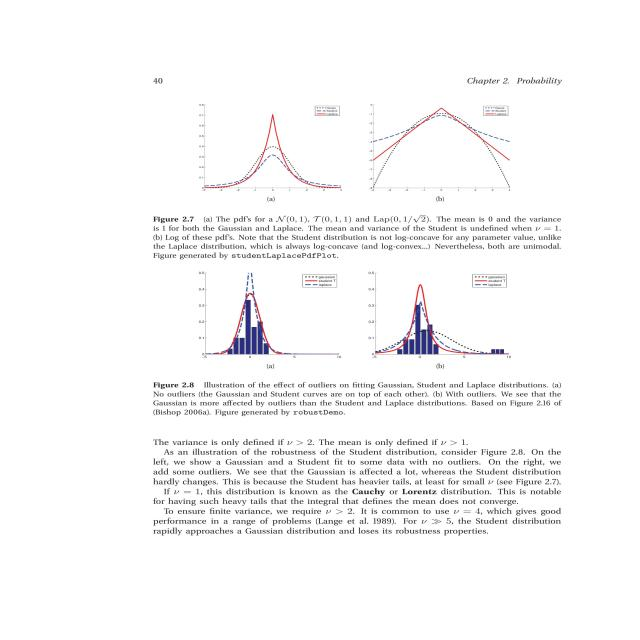diagram: (119, 66, 640, 266), (133, 271, 566, 420)
